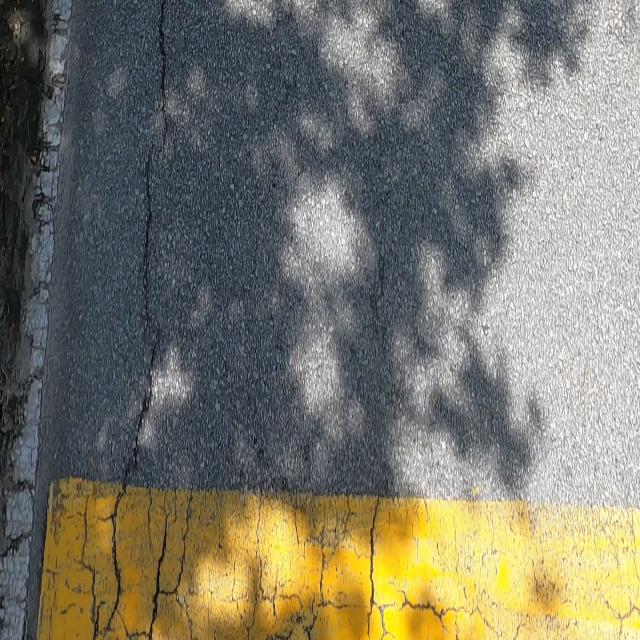Retak-Buaya: (246, 495, 392, 640)
Retak-Memanjang: (99, 1, 175, 632), (143, 516, 173, 640)
